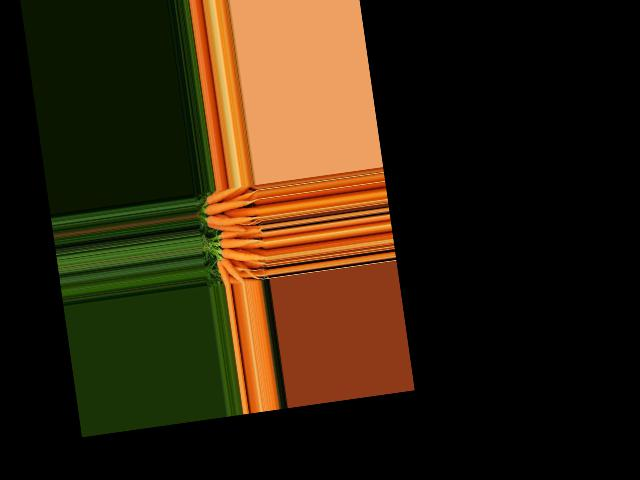carrot: (204, 195, 257, 217)
